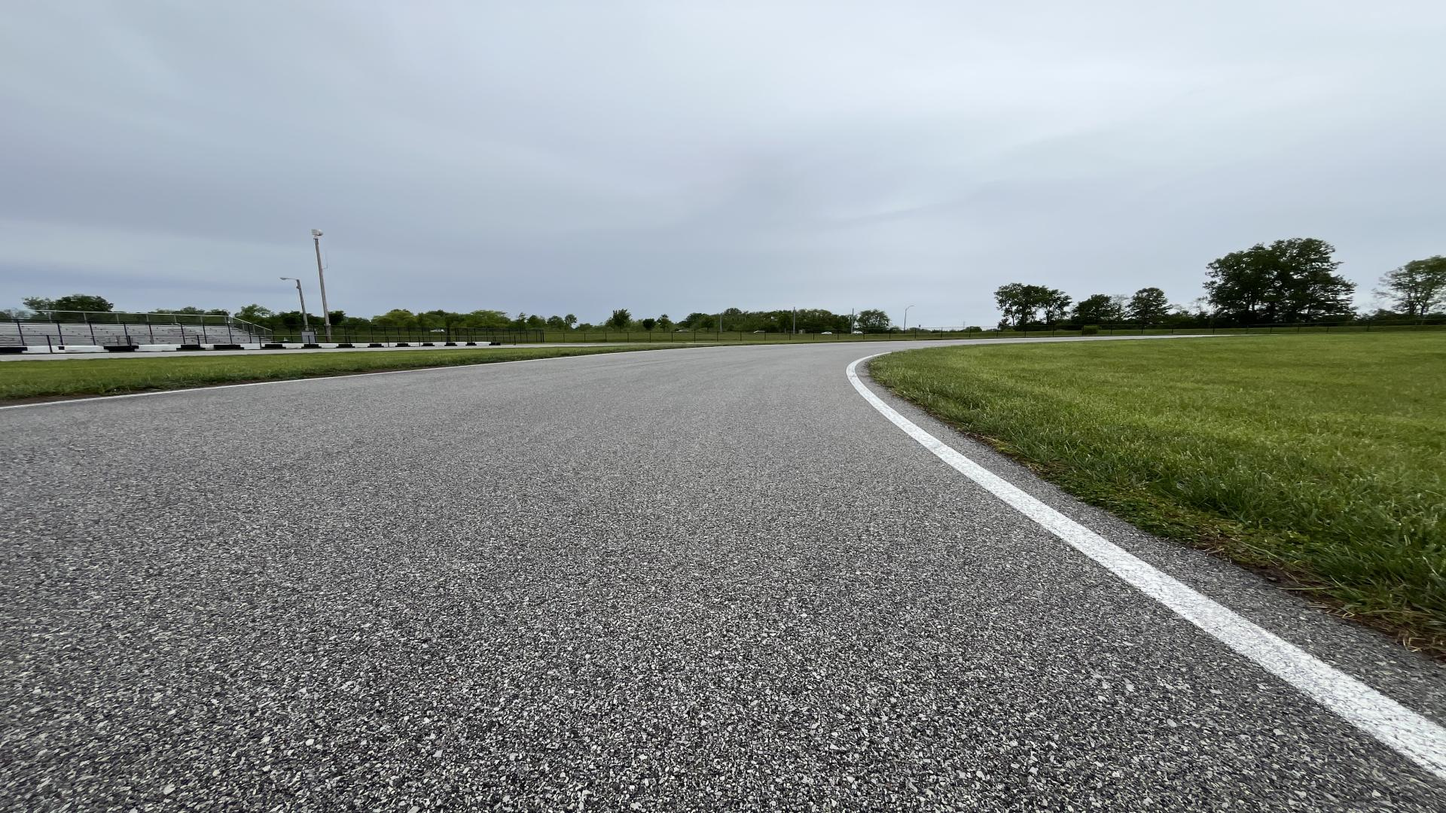white-line: (846, 343, 1445, 775), (0, 348, 717, 410)
